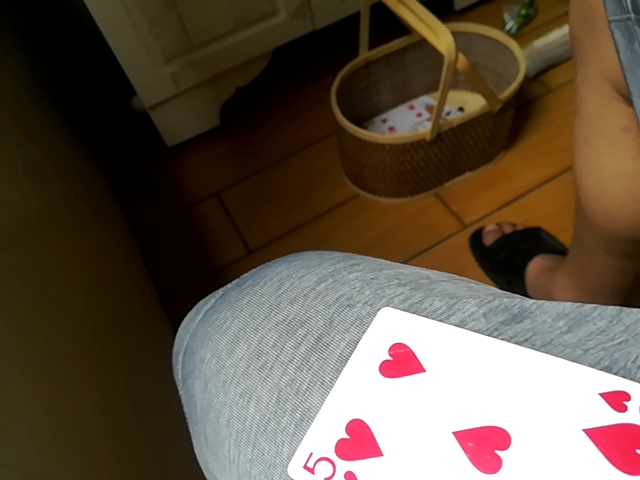hx 5: (275, 307, 637, 480)
